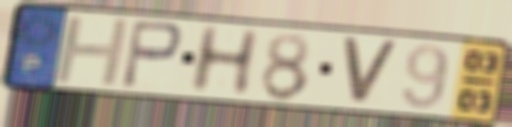8: (256, 30, 317, 102)
9: (399, 42, 451, 112)
H: (51, 15, 134, 88), (185, 23, 264, 96)
P: (118, 18, 186, 92)
V: (339, 34, 403, 108)
